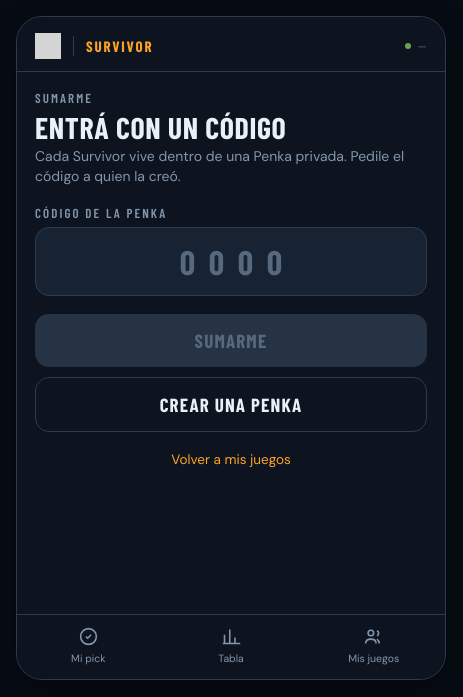
it: JoinPenkaView › shows the rate limiter own words
The width and height of the screenshot is (463, 697).
In the field labelled "Código de la penka": (231,261) [35, 227, 427, 296], type "4821"
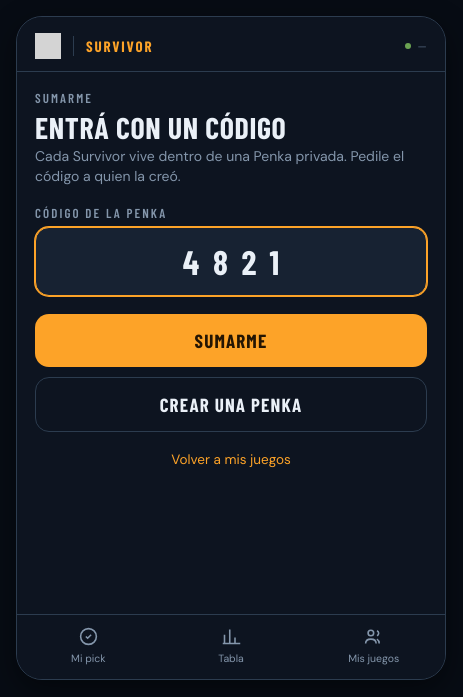
Click the button "Sumarme": (231,340) [35, 314, 427, 367]
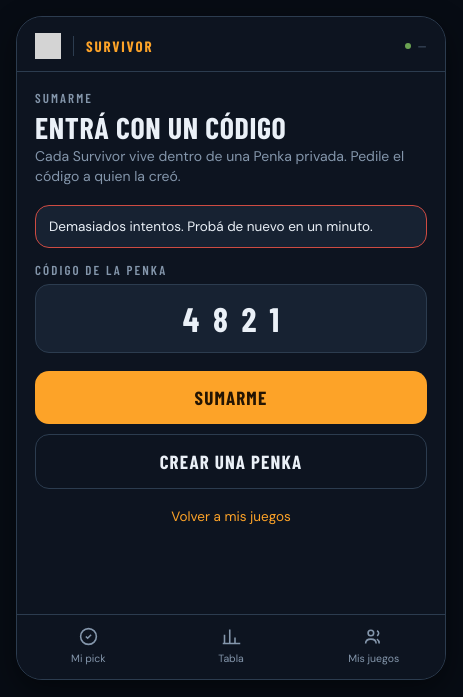
Result: the message reads "Demasiados intentos. Probá de nuevo en un minuto." at [49, 218, 373, 235]
